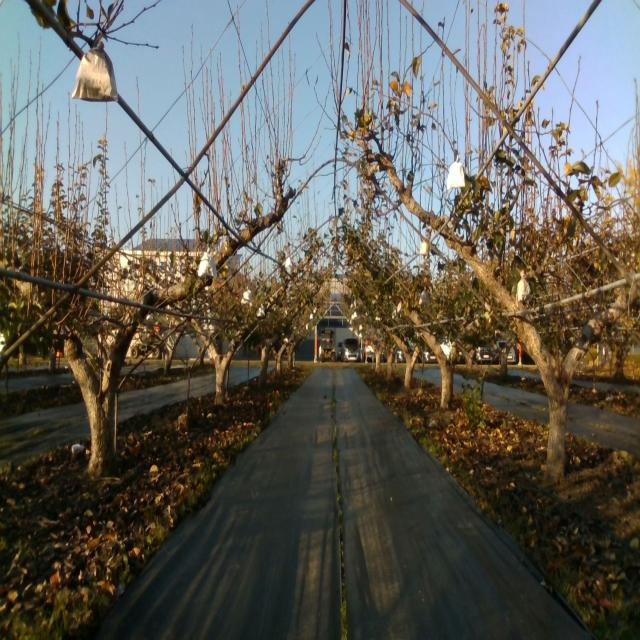pearbags: (72, 39, 121, 104), (446, 155, 466, 193), (199, 253, 218, 281), (517, 270, 531, 302), (240, 285, 253, 306)
